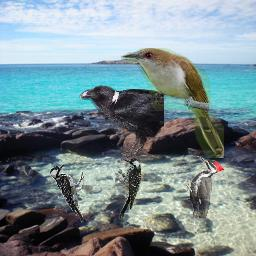Crow: (79, 85, 164, 168)
Cuckoo: (121, 48, 224, 158)
Woodpecker: (49, 163, 86, 228), (186, 155, 224, 218), (115, 158, 141, 219)
